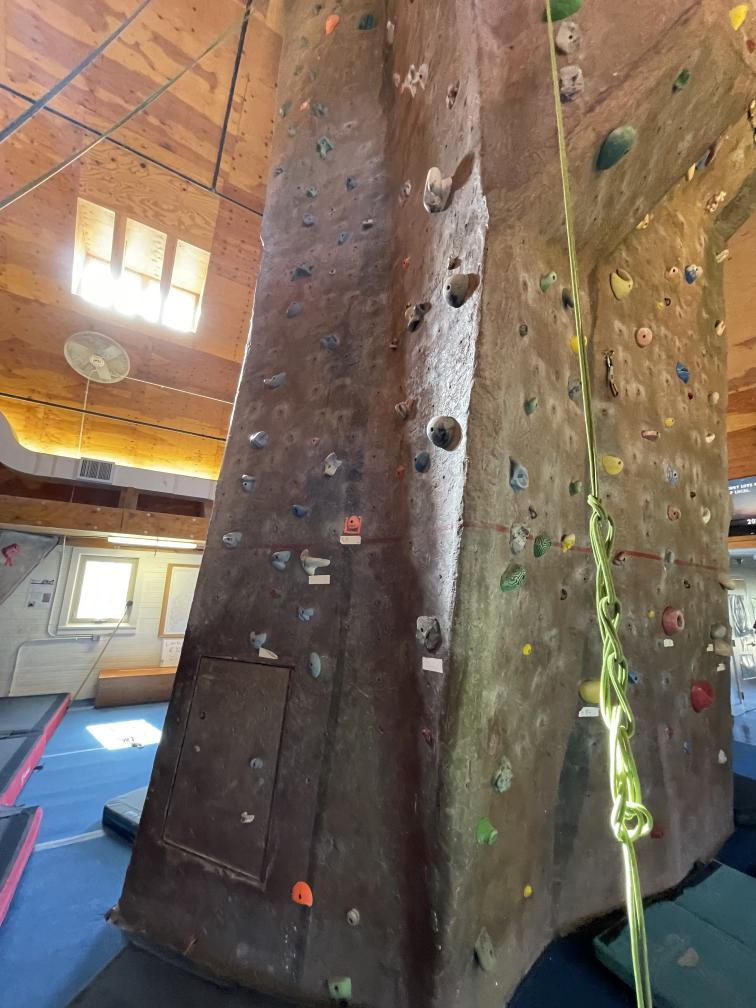Crimp: (410, 614, 446, 651), (506, 515, 532, 558), (396, 178, 413, 209), (294, 604, 318, 622), (289, 502, 312, 519), (318, 335, 341, 350), (346, 515, 362, 531), (445, 254, 459, 272), (298, 96, 312, 114), (291, 62, 306, 78), (308, 67, 322, 83), (360, 219, 376, 229), (401, 258, 412, 269), (311, 438, 323, 448)
Edges: (675, 359, 693, 386)
Foothold: (323, 973, 360, 1002), (472, 816, 502, 850), (288, 881, 316, 907), (340, 908, 365, 932), (247, 752, 269, 775), (237, 810, 258, 828), (419, 725, 434, 747), (649, 822, 666, 841), (716, 747, 730, 767), (519, 641, 534, 658), (520, 885, 535, 902), (393, 464, 406, 483), (268, 588, 284, 602), (682, 741, 694, 758), (665, 722, 676, 740), (518, 322, 530, 338), (663, 416, 677, 429), (644, 607, 656, 620), (653, 299, 665, 311), (687, 488, 699, 499), (700, 347, 711, 358), (686, 390, 695, 402)
Jug: (419, 164, 459, 217), (470, 925, 501, 976), (605, 264, 637, 305), (400, 62, 434, 99), (294, 546, 334, 577), (555, 65, 588, 102), (507, 451, 532, 496), (552, 20, 584, 54), (399, 302, 429, 336), (702, 186, 728, 218), (319, 449, 343, 482), (726, 2, 748, 34), (670, 65, 694, 94), (632, 323, 655, 351), (704, 133, 724, 165), (393, 394, 416, 421), (715, 569, 738, 595), (710, 639, 736, 662), (261, 370, 288, 392), (314, 134, 335, 162), (538, 268, 559, 296), (269, 549, 293, 572), (523, 392, 542, 420), (559, 530, 580, 555), (443, 83, 461, 110), (246, 629, 268, 651), (239, 471, 258, 495), (560, 282, 576, 310), (712, 244, 731, 267), (710, 316, 728, 340), (679, 159, 696, 183), (383, 19, 398, 46), (634, 212, 652, 233), (666, 504, 684, 524), (698, 504, 714, 526), (663, 264, 680, 284), (344, 174, 360, 195), (568, 477, 584, 498), (299, 211, 316, 229), (278, 98, 292, 118), (703, 430, 719, 447), (572, 334, 586, 353), (707, 390, 721, 408), (298, 36, 309, 50)
Pinch: (288, 258, 316, 286), (246, 426, 273, 453), (217, 530, 245, 550), (638, 427, 665, 444), (659, 546, 678, 570), (334, 229, 354, 246), (624, 669, 641, 687), (302, 183, 320, 199), (287, 120, 298, 138)
Pocket: (687, 677, 717, 716), (660, 602, 686, 638)
Sloper: (593, 121, 644, 178), (439, 271, 472, 310), (489, 755, 518, 798), (426, 414, 460, 450), (497, 561, 531, 596), (577, 678, 605, 708), (600, 452, 627, 476), (532, 531, 554, 560), (305, 650, 324, 681), (684, 259, 702, 289), (358, 10, 378, 34), (324, 12, 342, 38), (412, 450, 430, 473), (707, 622, 728, 640), (311, 99, 329, 119), (664, 465, 680, 486)
